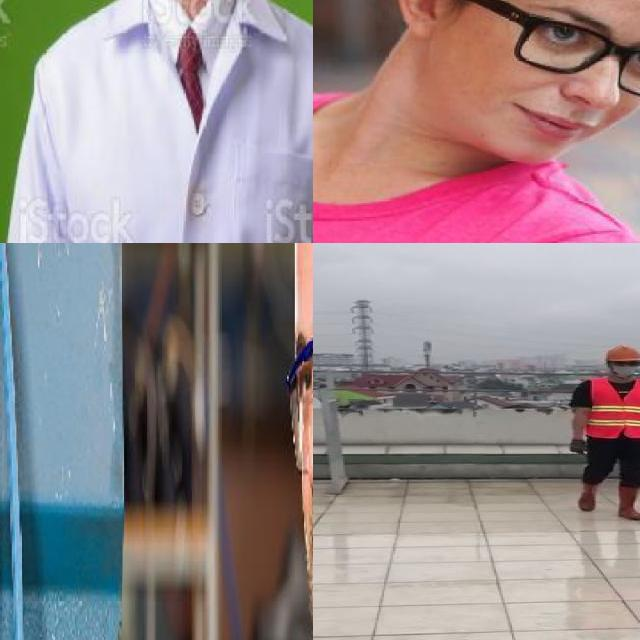No_Ear-Protection: (389, 0, 455, 43)
boots: (617, 484, 640, 521), (574, 481, 598, 511)
face_nomask: (498, 0, 640, 154), (282, 318, 313, 583)
glasses: (444, 0, 640, 90), (285, 243, 313, 497)
head_helmet: (602, 343, 640, 362)
person: (313, 0, 640, 243), (0, 0, 313, 243), (568, 346, 640, 525)
vest: (586, 378, 640, 438)
